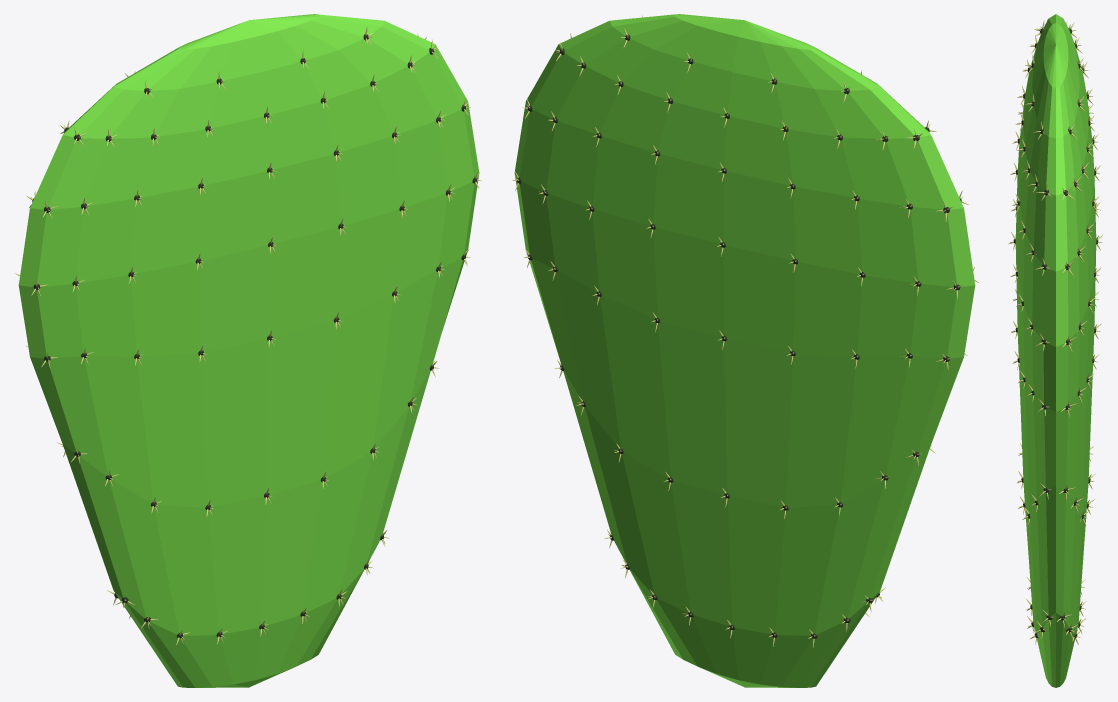
The model's file is nopales_V4.fbx.
The picture shows the model from 3 angles, left to right: view 1: azimuth 30°, elevation 25°; view 2: azimuth 150°, elevation 25°; view 3: azimuth 270°, elevation 25°; orthographic projection. The views are drawn at different scales.
Parts seen in each view (by area): view 1: nopal_2; view 2: nopal_2; view 3: nopal_2.
Boxes of the visible parts, x1=… form: nopal_2: x1=18, y1=14, x2=479, y2=687; nopal_2: x1=514, y1=14, x2=975, y2=687; nopal_2: x1=1015, y1=14, x2=1096, y2=687.
Bounding box in the file's own units: 24.5 × 33.91 × 4.66.
